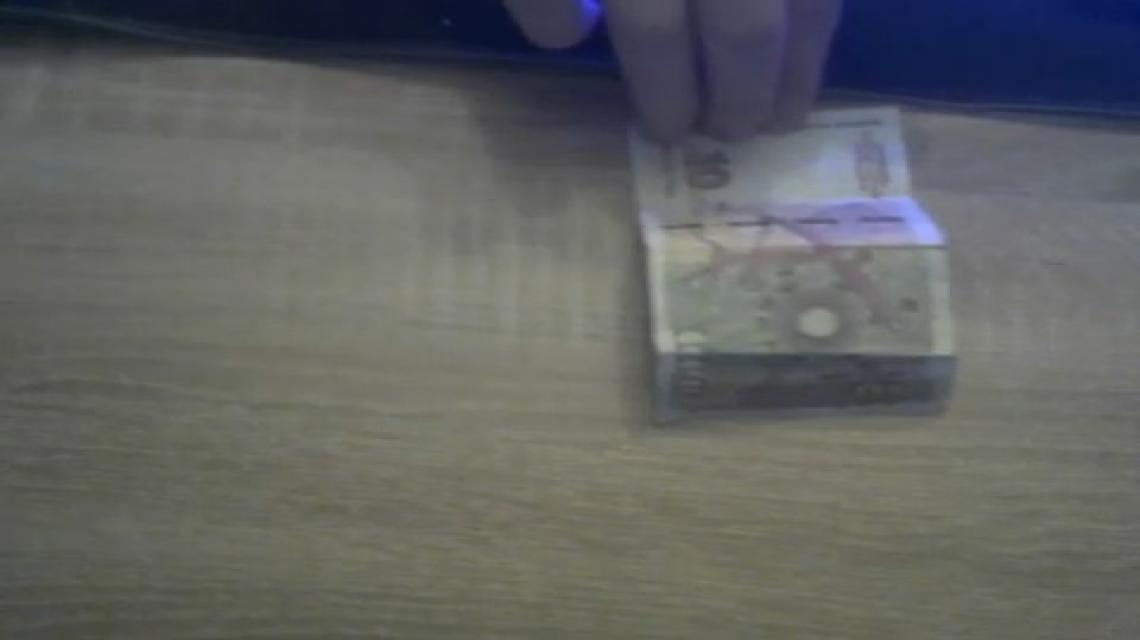10leva: (644, 126, 960, 425)
